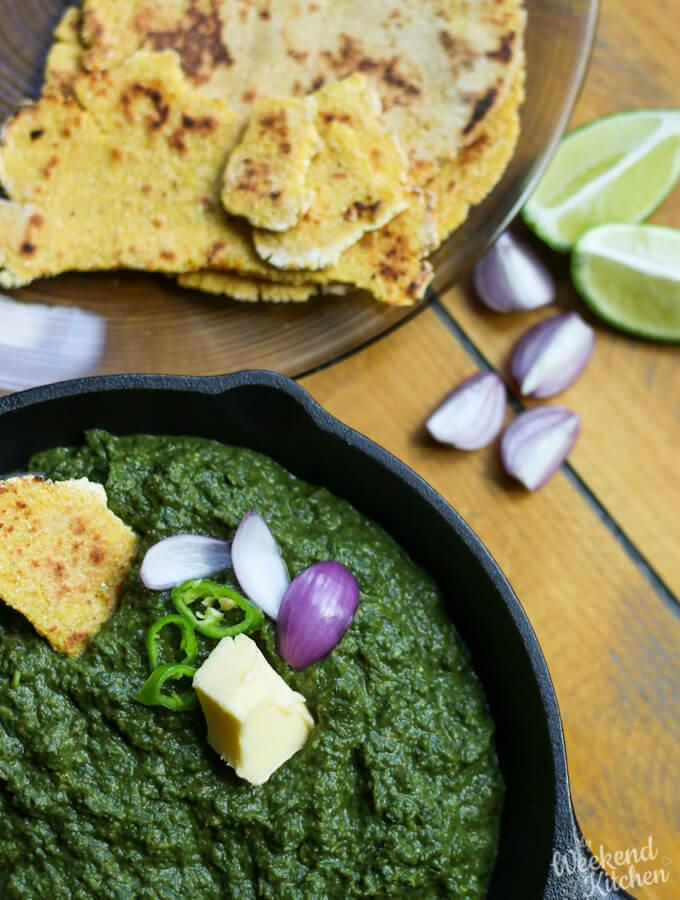saag: (0, 450, 509, 900)
